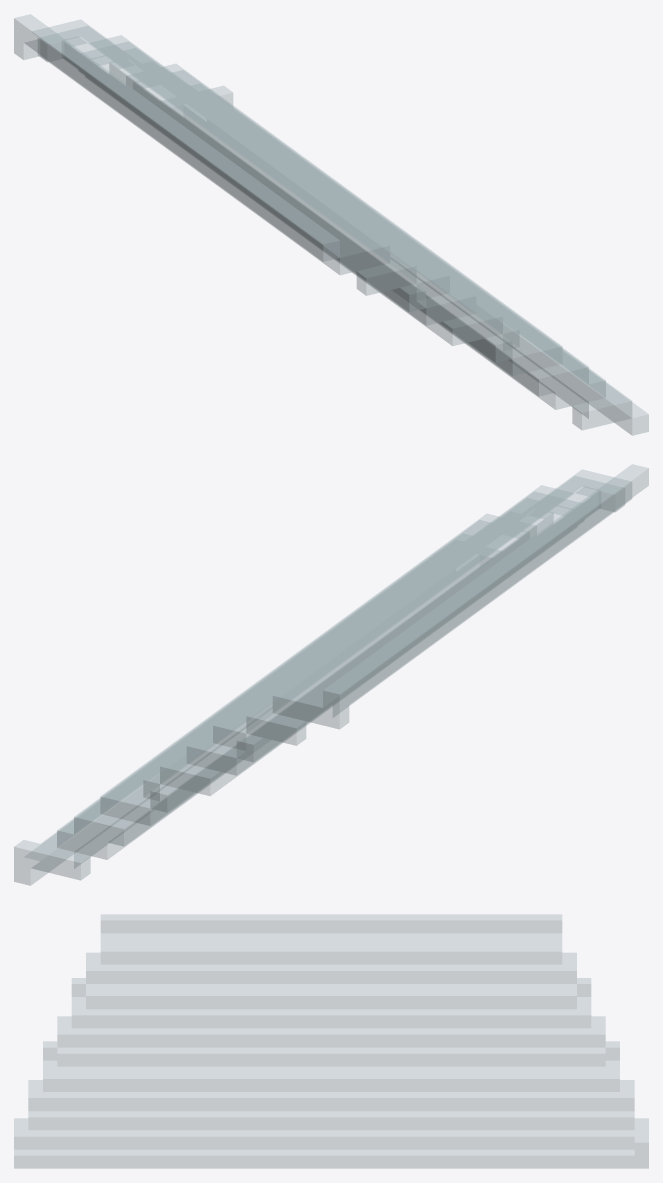
Rendered from convertible_windscreen.glb.
3 views of the same model, one above another, from view 1: azimuth 30°, elevation 25°; view 2: azimuth 150°, elevation 25°; view 3: azimuth 270°, elevation 25° (orthographic). The views are drawn at different scales.
Visible parts, largest first — view 1: body:compound; view 2: body:compound; view 3: body:compound.
Boxes of the visible parts, x1,y1,x2,y2 form: body:compound: (14, 14, 648, 435); body:compound: (14, 464, 648, 885); body:compound: (14, 914, 648, 1168).
Bounding box in the file's own units: 0.5 × 0.375 × 1.38.
